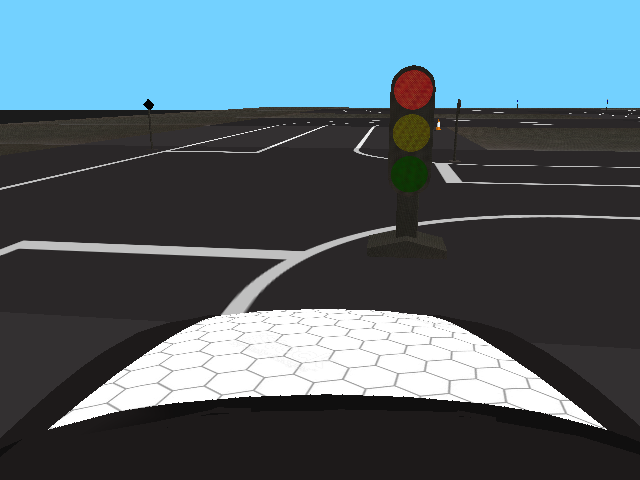red_light: (388, 64, 434, 192)
